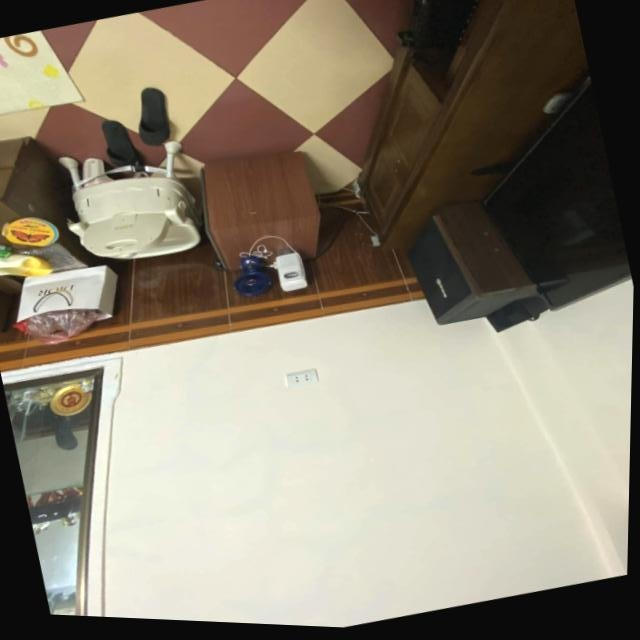outlet: (285, 366, 320, 390)
